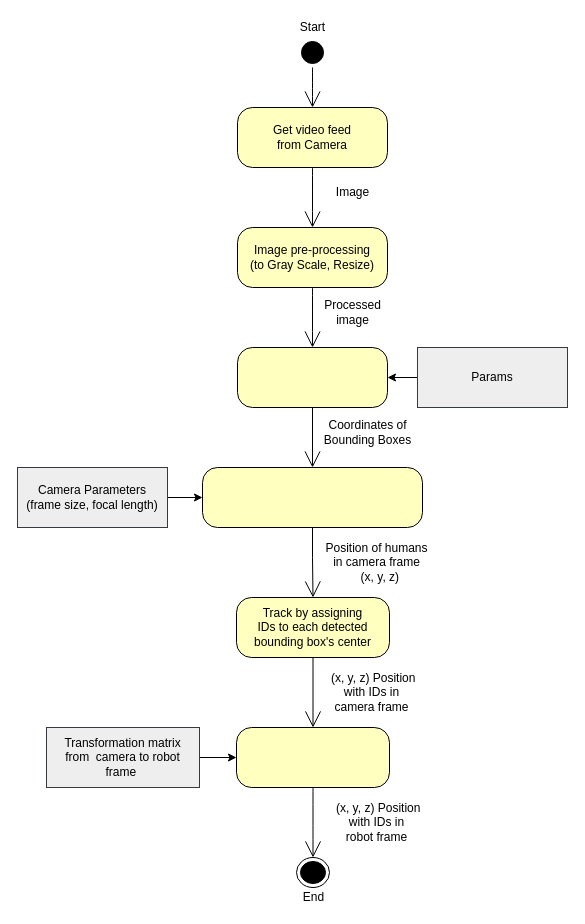
This 585x924 diagram has some shape labels left out. The centre of each missing label's shape, as x and y in pixels:
Calculate position of humans using bounding box sizes and its coordinates: the point at 312,497
HOG detector: the point at 312,377
Transform position from camera frame to robot frame: the point at 313,757
